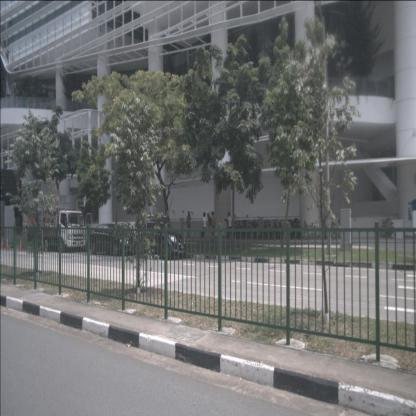cone: (19, 238, 23, 251), (0, 236, 4, 248), (5, 237, 8, 250)
